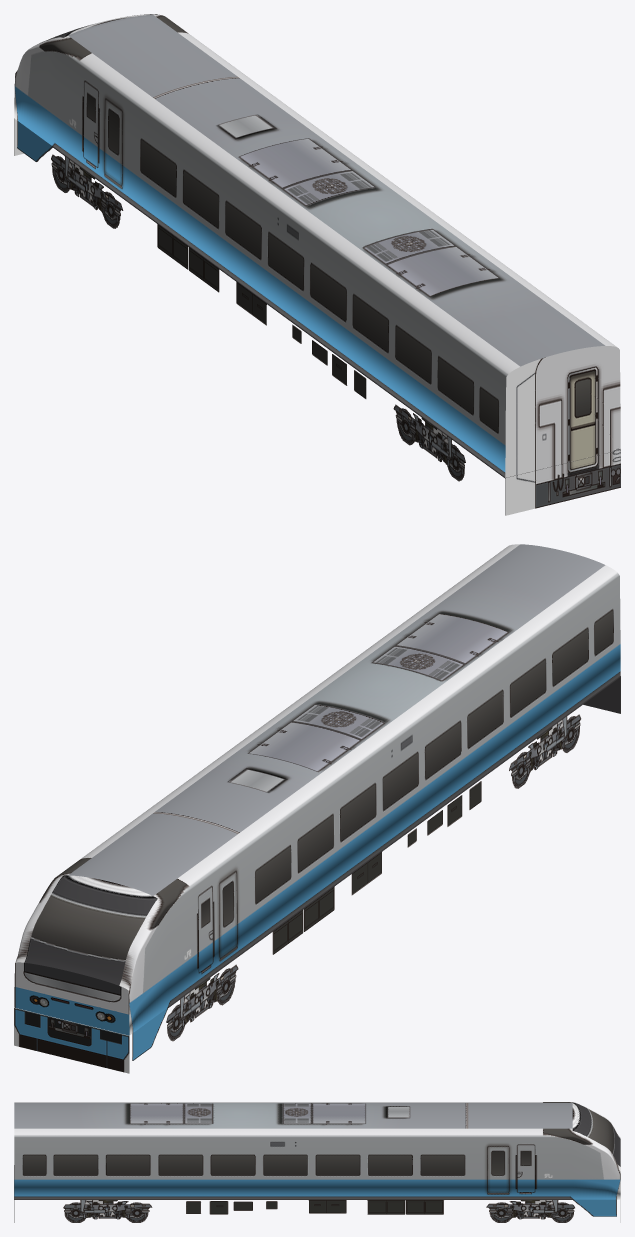
Rendered from car2.glb.
The picture shows the model from 3 angles, top to bottom: view 1: azimuth 30°, elevation 25°; view 2: azimuth 150°, elevation 25°; view 3: azimuth 270°, elevation 25°; orthographic projection. The views are drawn at different scales.
Visible parts, largest first — view 1: jr-east-e653-car2; view 2: jr-east-e653-car2; view 3: jr-east-e653-car2.
Boxes of the visible parts, x1,y1,x2,y2 form: jr-east-e653-car2: [14, 14, 620, 515]; jr-east-e653-car2: [14, 544, 620, 1073]; jr-east-e653-car2: [14, 1102, 620, 1222].
Bounding box in the file's own units: 2.94 × 3.64 × 21.76.
Materials: 8 (7 with a texture image).
